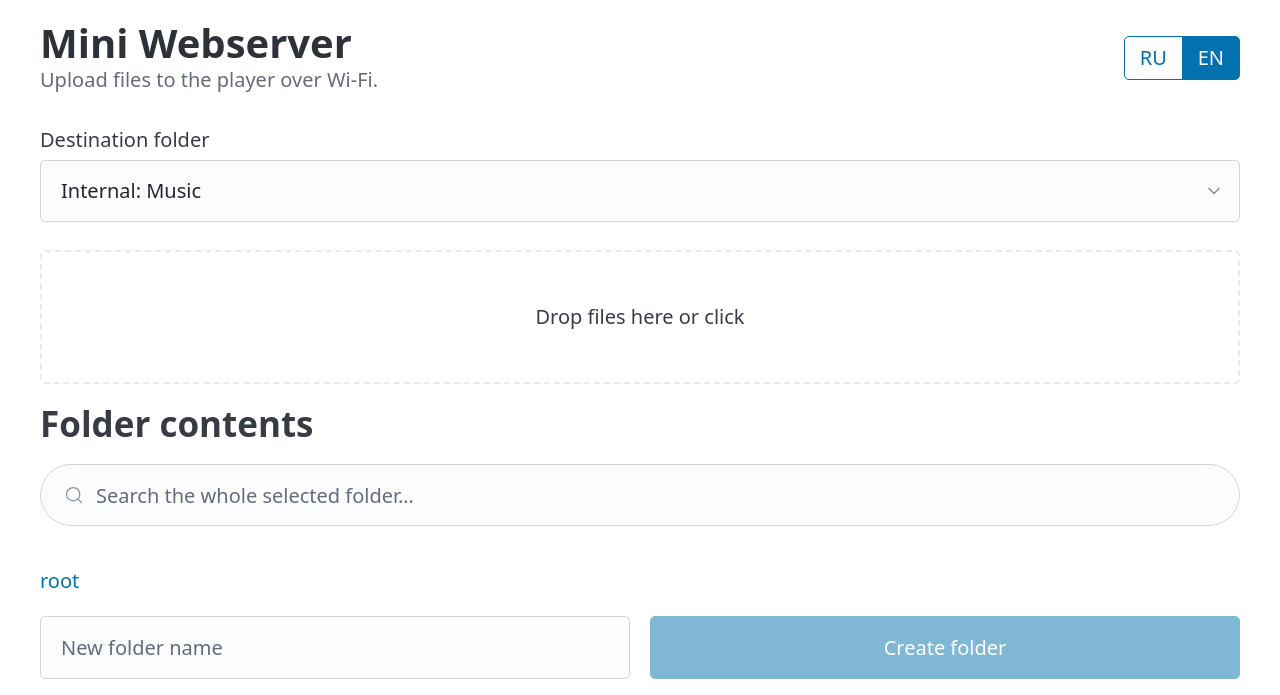
App › falls back to a generic message when no error code is given
Step 1. Type "X" into the field with placeholder "New folder name" → (335, 648), box [40,616,630,679]
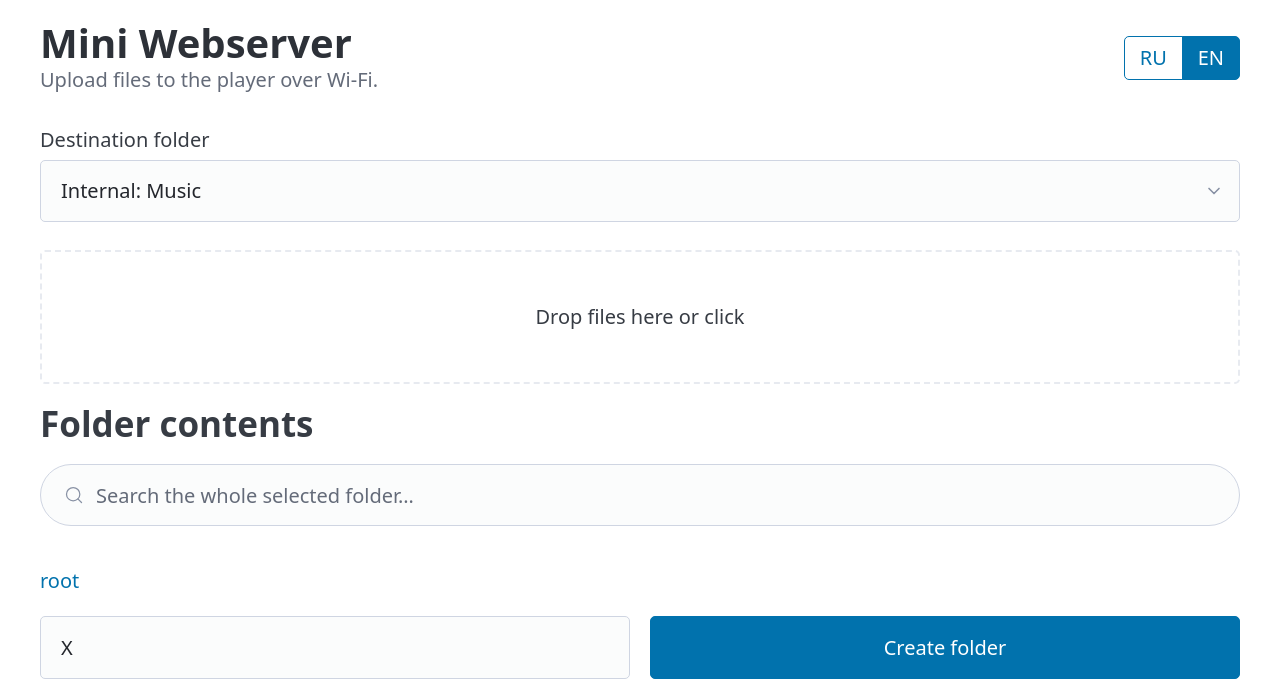
Step 2. Click the button "Create folder" → (945, 648), box [650,616,1240,679]
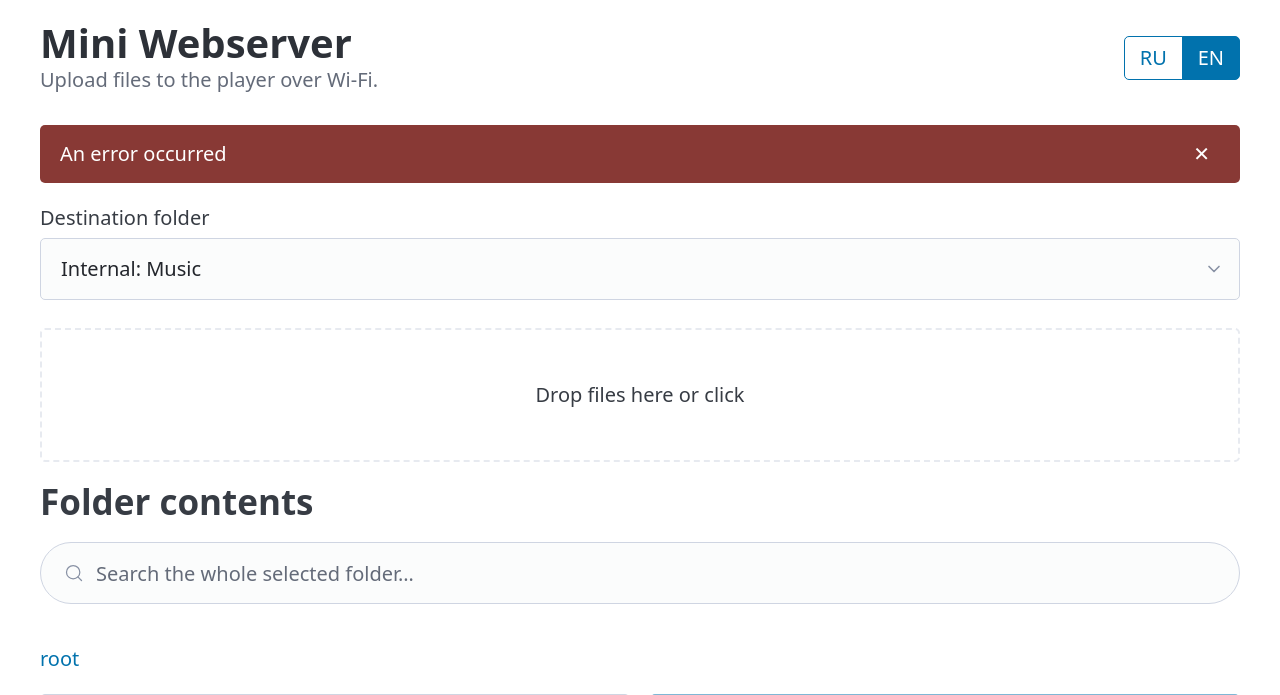
Expected: the message shows "An error occurred", [60,140,227,167]
